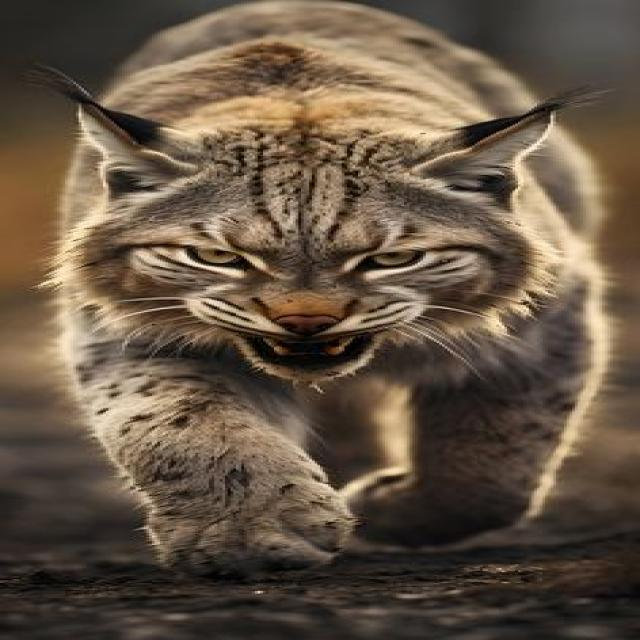Carnivorous: (41, 0, 613, 588)
